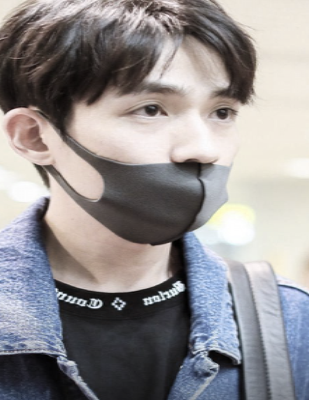mask_weared_incorrect: (74, 80, 244, 247)
